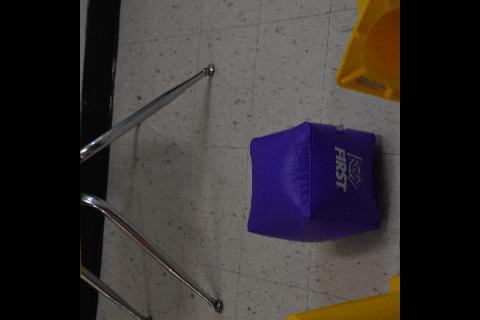cone: (334, 0, 400, 101), (282, 271, 399, 320)
cube: (246, 119, 382, 241)
